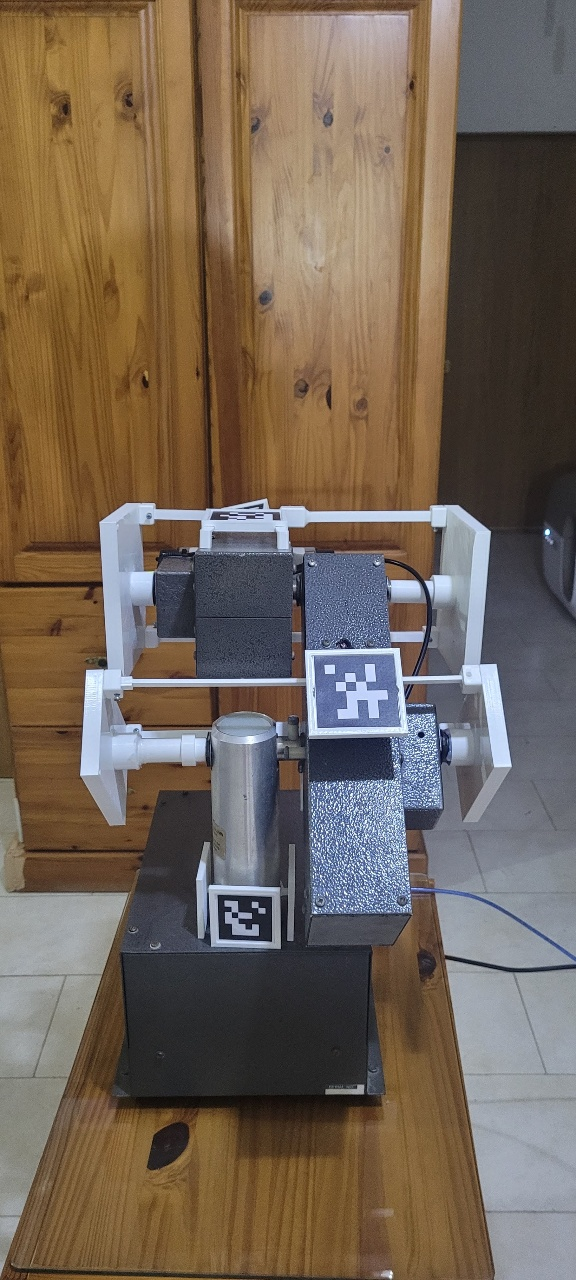Robot: (78, 498, 514, 954)
